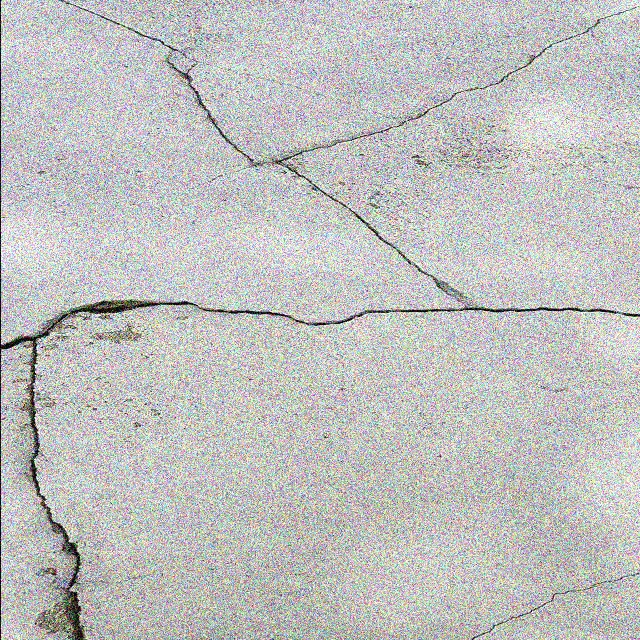SurfaceCrack: (1, 0, 636, 323), (50, 540, 639, 640), (1, 356, 114, 640)
